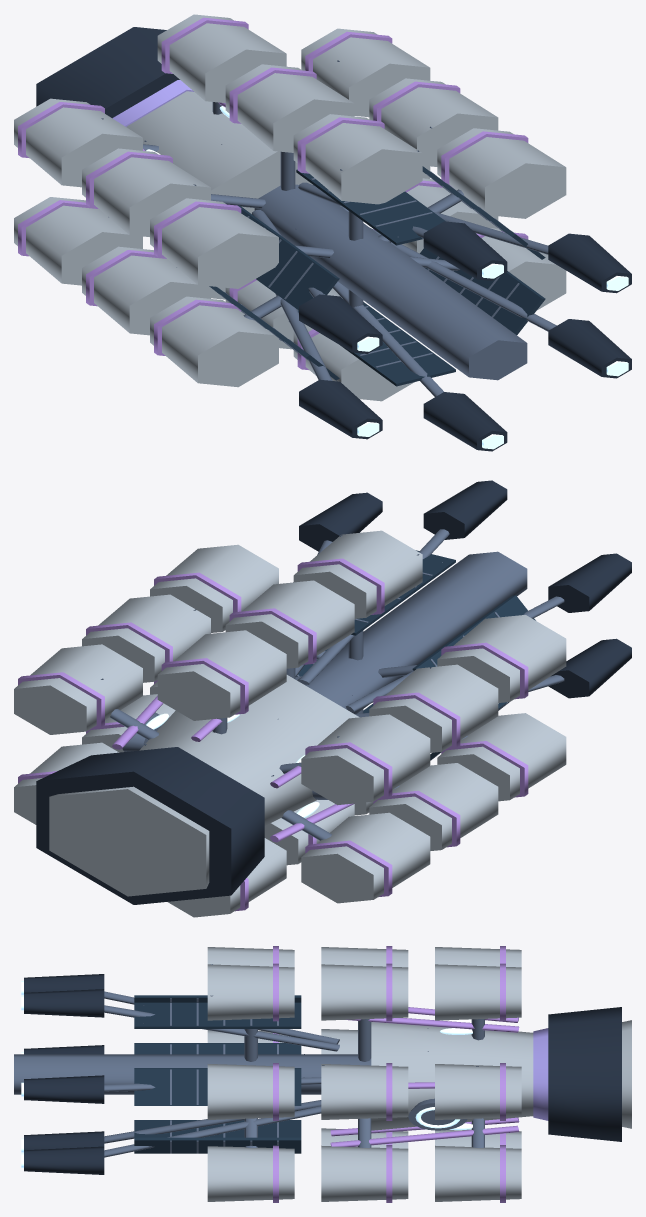
The model's file is cryogenic_hydrocarbon--resource_outpost_ship.glb.
3 renders of one model, top to bottom at view 1: azimuth 30°, elevation 25°; view 2: azimuth 150°, elevation 25°; view 3: azimuth 270°, elevation 25°, orthographic. The views are drawn at different scales.
Parts seen in each view (by area): view 1: thermal_isolation_spine_1, cold_habitat_lantern_2, insulated_habitat_lantern_111, insulated_habitat_lantern_126, insulated_habitat_lantern_114, insulated_habitat_lantern_123, outpost_seed_capsule_129, insulated_habitat_lantern_93, insulated_habitat_lantern_75, insulated_habitat_lantern_108, insulated_habitat_lantern_90, insulated_habitat_lantern_87 (+36 smaller); view 2: outpost_seed_capsule_129, forward_ice_cap_3, thermal_isolation_spine_1, cold_habitat_lantern_2, insulated_habitat_lantern_75, insulated_habitat_lantern_90, insulated_habitat_lantern_87, insulated_habitat_lantern_78, insulated_habitat_lantern_93, insulated_habitat_lantern_111, insulated_habitat_lantern_108, insulated_habitat_lantern_126 (+30 smaller); view 3: outpost_seed_capsule_129, cold_habitat_lantern_2, thermal_isolation_spine_1, insulated_habitat_lantern_96, insulated_habitat_lantern_93, insulated_habitat_lantern_99, insulated_habitat_lantern_114, insulated_habitat_lantern_111, insulated_habitat_lantern_117, insulated_habitat_lantern_78, insulated_habitat_lantern_75, insulated_habitat_lantern_81 (+37 smaller).
Part boxes in pixels (x1,y1,x2,y2): thermal_isolation_spine_1: [254, 184, 527, 380]; cold_habitat_lantern_2: [126, 91, 341, 213]; insulated_habitat_lantern_111: [293, 114, 422, 204]; insulated_habitat_lantern_126: [150, 198, 278, 288]; insulated_habitat_lantern_114: [437, 128, 566, 218]; insulated_habitat_lantern_123: [150, 296, 278, 387]; outpost_seed_capsule_129: [36, 27, 179, 118]; insulated_habitat_lantern_93: [225, 64, 354, 152]; insulated_habitat_lantern_75: [157, 14, 286, 102]; insulated_habitat_lantern_108: [82, 148, 210, 236]; insulated_habitat_lantern_90: [14, 98, 142, 187]; insulated_habitat_lantern_87: [14, 197, 142, 285]; outpost_seed_capsule_129: [36, 747, 264, 904]; forward_ice_cap_3: [49, 786, 209, 896]; thermal_isolation_spine_1: [297, 551, 527, 714]; cold_habitat_lantern_2: [139, 675, 359, 825]; insulated_habitat_lantern_75: [157, 630, 286, 720]; insulated_habitat_lantern_90: [301, 714, 430, 805]; insulated_habitat_lantern_87: [301, 812, 430, 903]; insulated_habitat_lantern_78: [14, 644, 142, 734]; insulated_habitat_lantern_93: [225, 580, 354, 668]; insulated_habitat_lantern_111: [293, 530, 422, 618]; insulated_habitat_lantern_108: [369, 664, 498, 752]; insulated_habitat_lantern_126: [437, 615, 566, 702]; outpost_seed_capsule_129: [548, 1007, 621, 1141]; cold_habitat_lantern_2: [371, 1022, 533, 1130]; thermal_isolation_spine_1: [14, 1054, 371, 1094]; insulated_habitat_lantern_96: [321, 1064, 408, 1119]; insulated_habitat_lantern_93: [321, 964, 408, 1020]; insulated_habitat_lantern_99: [321, 1145, 408, 1201]; insulated_habitat_lantern_114: [207, 1064, 294, 1119]; insulated_habitat_lantern_111: [207, 964, 294, 1020]; insulated_habitat_lantern_117: [207, 1146, 294, 1201]; insulated_habitat_lantern_78: [435, 1064, 521, 1119]; insulated_habitat_lantern_75: [435, 964, 521, 1020]; insulated_habitat_lantern_81: [435, 1145, 521, 1201].
Bounding box in the file's own units: 2600 × 1700 × 4500.
